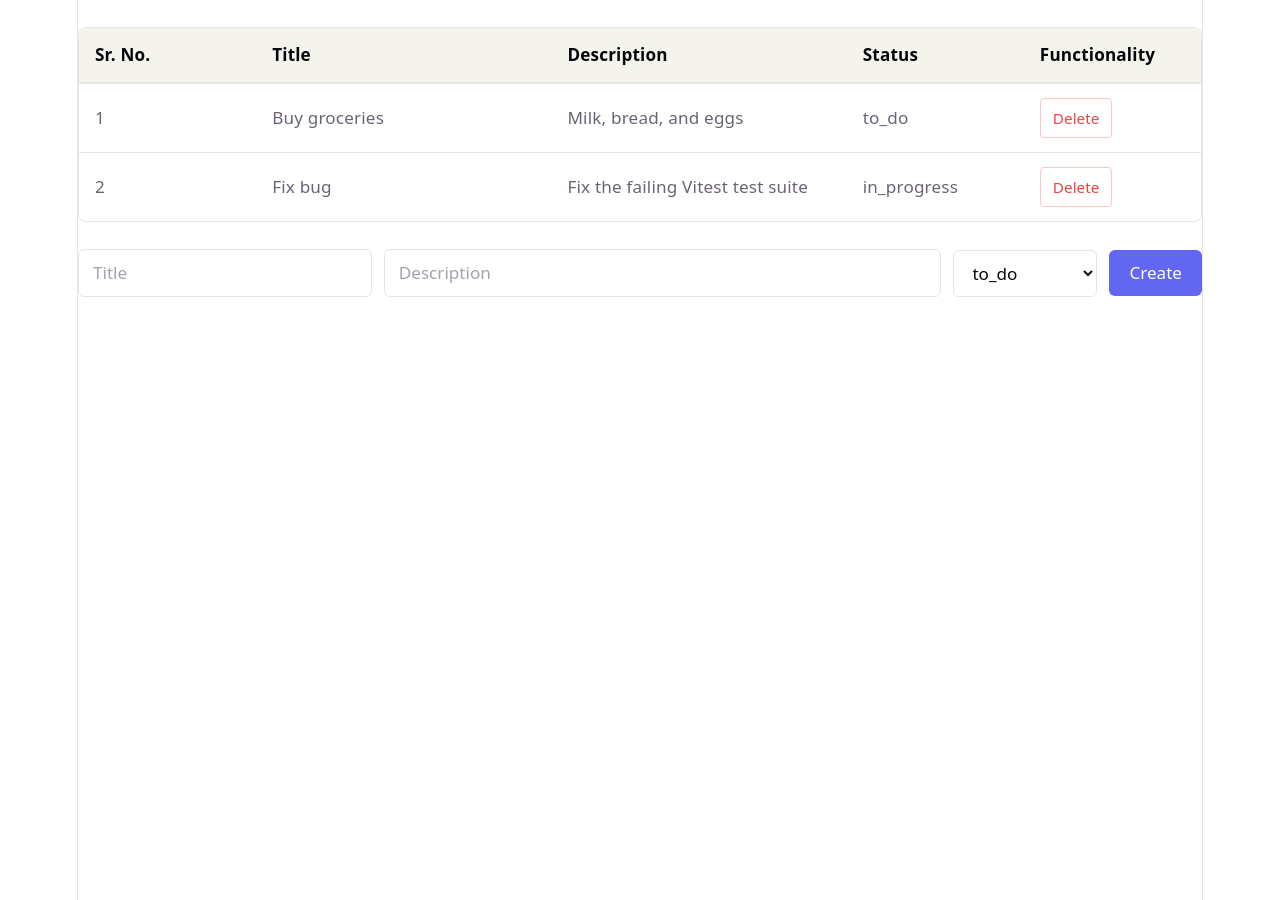
Scenario: TodoList › rejects an empty title without contacting the server
Expected: the text "Buy groceries" is shown, x1=256 y1=84 x2=552 y2=153
Type "No title provided" into the field named "New description" at (663, 273), box x1=384 y1=249 x2=941 y2=297
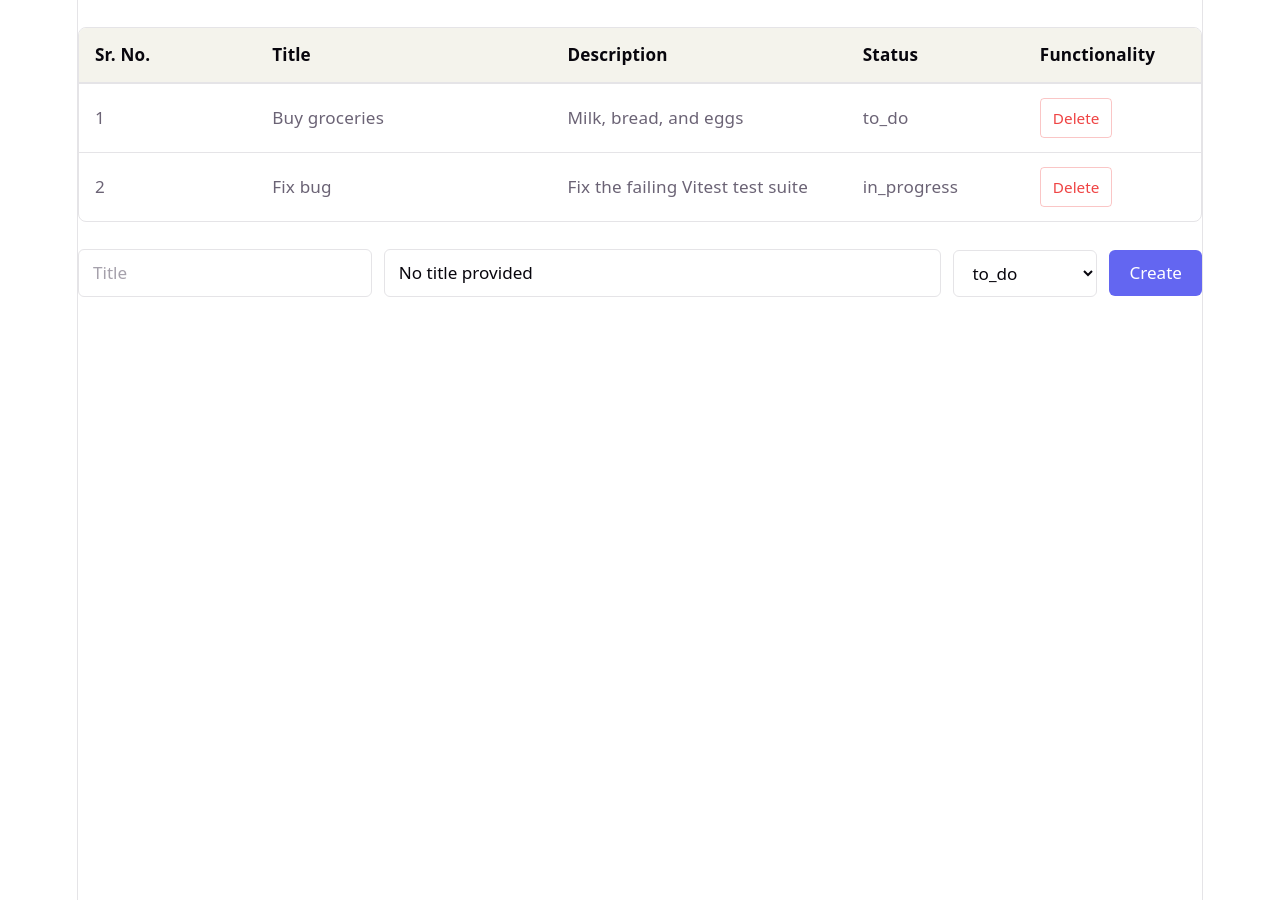
Click the button "Create" at (1156, 273), box x1=1109 y1=250 x2=1202 y2=296
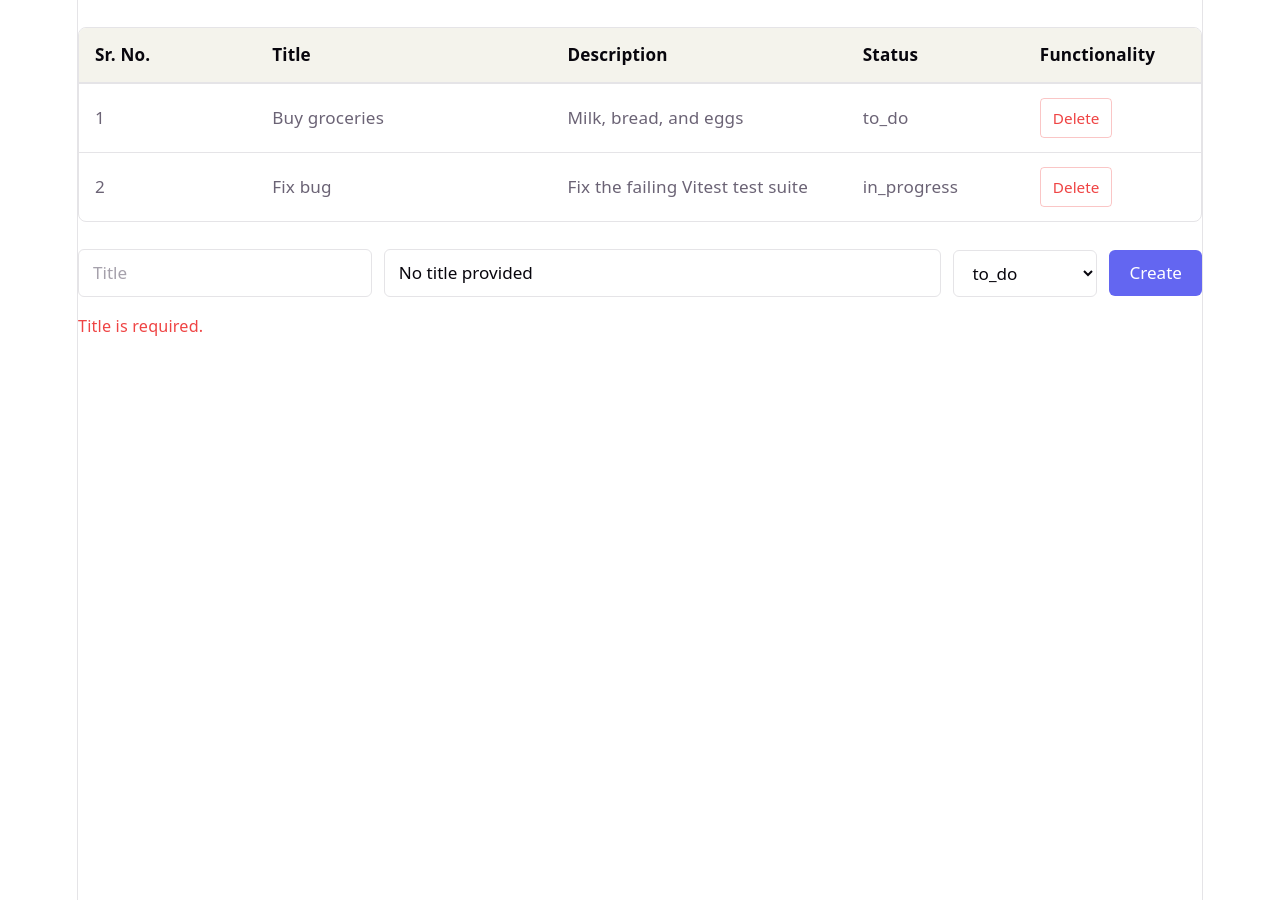
Expected: the text "Title is required." is shown, x1=78 y1=315 x2=203 y2=337
